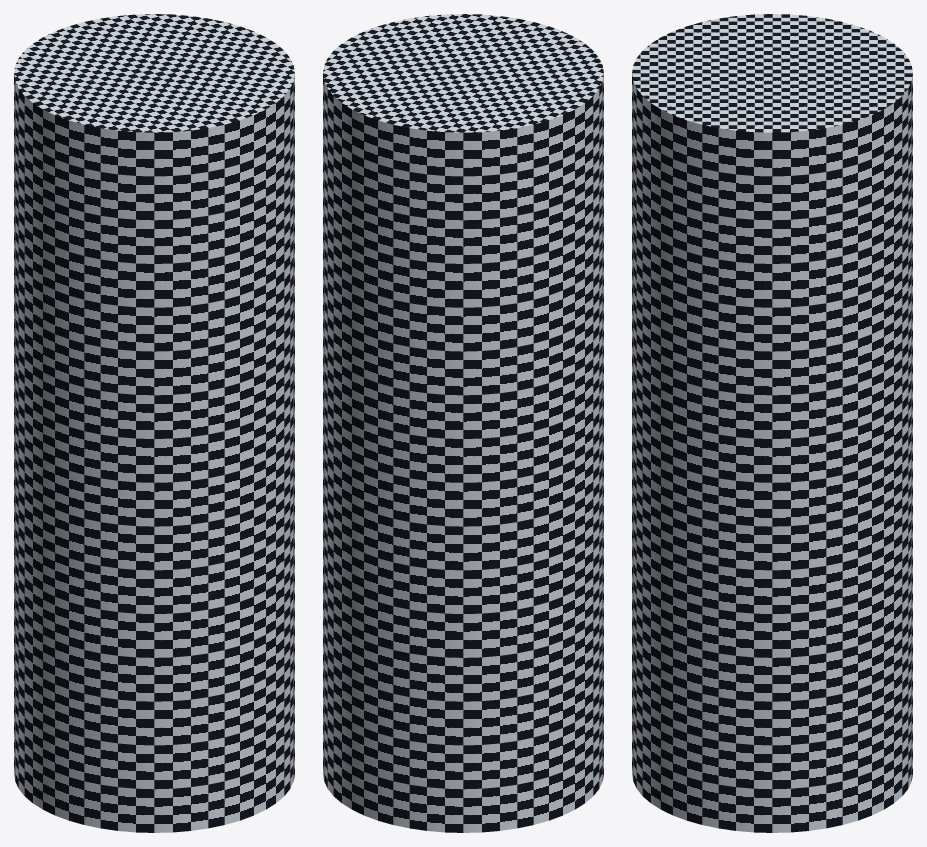
The model's file is checker_cylinder.glb.
3 renders of one model, left to right at view 1: azimuth 30°, elevation 25°; view 2: azimuth 150°, elevation 25°; view 3: azimuth 270°, elevation 25°, orthographic.
Visible parts, largest first — view 1: CheckerSoftBodyCylinder; view 2: CheckerSoftBodyCylinder; view 3: CheckerSoftBodyCylinder.
Part boxes in pixels (left/top/right/bottom): CheckerSoftBodyCylinder: left=14, top=14, right=294, bottom=832; CheckerSoftBodyCylinder: left=323, top=14, right=603, bottom=832; CheckerSoftBodyCylinder: left=632, top=14, right=912, bottom=832.
Bounding box in the file's own units: 0.6 × 1.65 × 0.6.
1 material, 1 textured.
